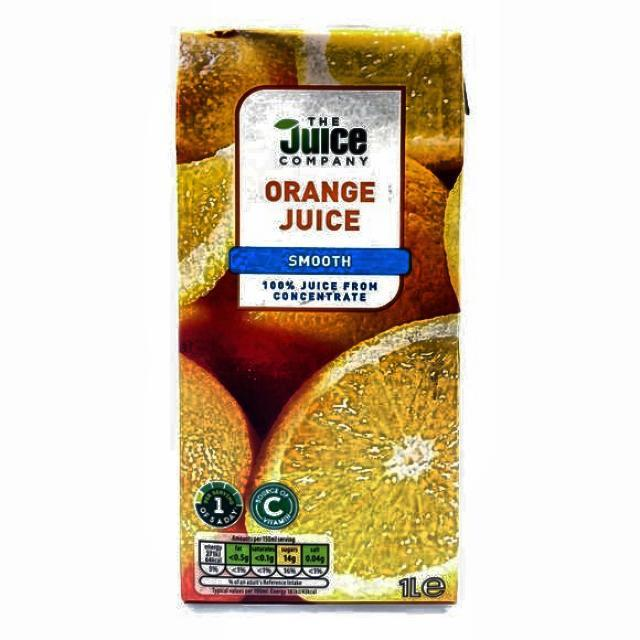cardboard: (176, 28, 464, 604)
